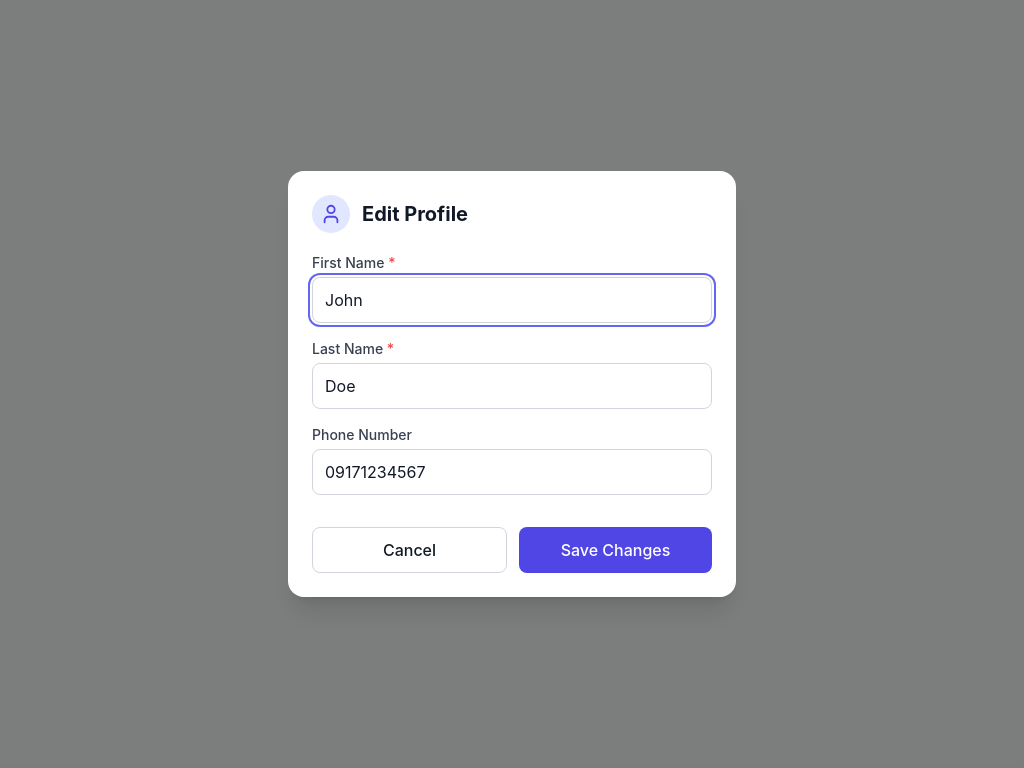
EditProfileModal › Validation › shows error for invalid phone number format
Replace the text in the field showing "09171234567" below "Phone Number" with "1234" at (512,472), box [312,449,712,495]
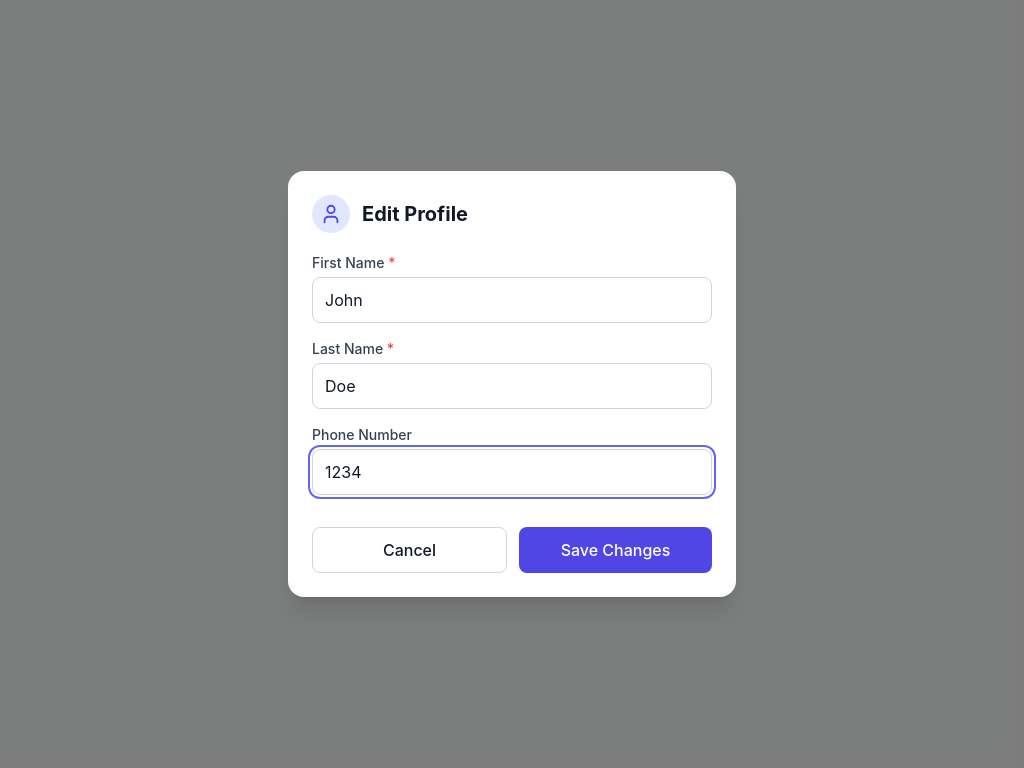
Click the button "Save Changes" at (616,550), box [519,527,712,573]
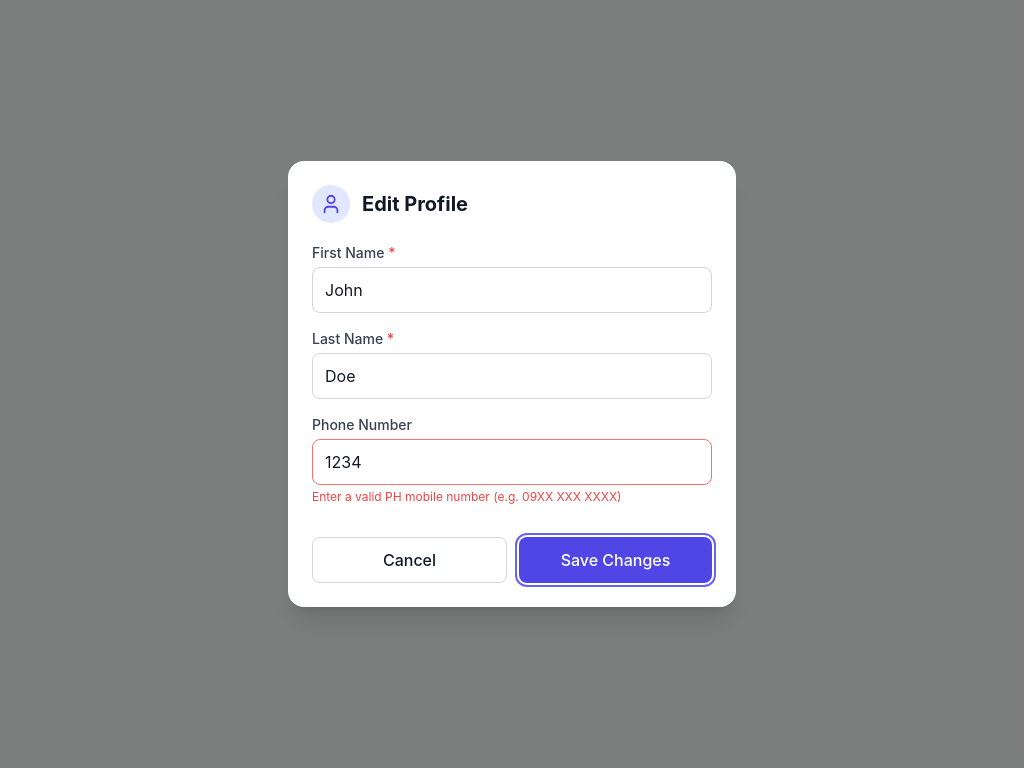
Check: the text "Enter a valid PH mobile number (e.g. 09XX XXX XXXX)" is shown, box [312,489,622,504]
